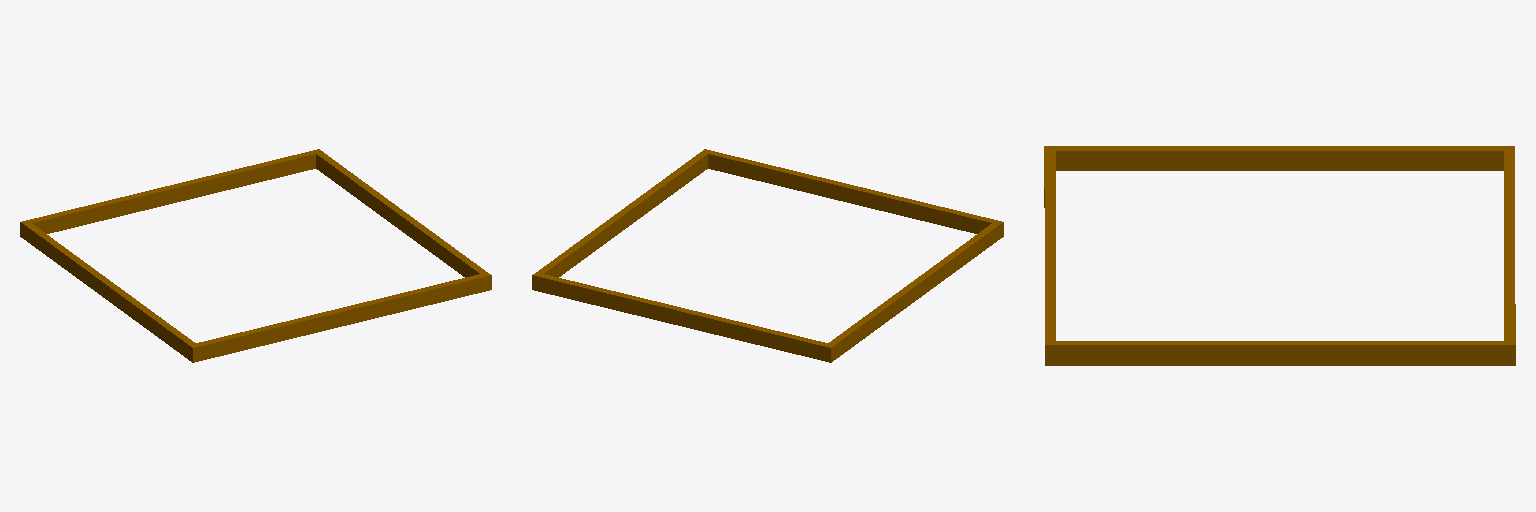
URDF robot description (walls):
<?xml version="1.0"?> 

<!-- Copyright 2023 [author] -->

<!-- Licensed under the Apache License, Version 2.0 (the "License"); -->
<!-- you may not use this file except in compliance with the License. -->
<!-- You may obtain a copy of the License at -->

<!--     http://www.apache.org/licenses/LICENSE-2.0 -->

<!-- Unless required by applicable law or agreed to in writing, software -->
<!-- distributed under the License is distributed on an "AS IS" BASIS, -->
<!-- WITHOUT WARRANTIES OR CONDITIONS OF ANY KIND, either express or implied. -->
<!-- See the License for the specific language governing permissions and -->
<!-- limitations under the License. -->

<!-- Authors: [author], [author] -->

<robot name="walls">
    <link name="north">
        <visual>
            <origin xyz="0 10.25 0" rpy="0 0 1.571" />
            <geometry>
                <mesh filename='meshes/v0_NS_wall.stl' />
            </geometry>
            <material name="brown">
                <color rgba="0.6 0.4 0.0 1"/>
            </material>
        </visual>
        <collision>
            <origin xyz="0 10.25 0" rpy="0 0 1.571" />
            <geometry>
                <mesh filename='meshes/v0_NS_wall.stl' />
            </geometry>
        </collision>
        <inertial>
            <mass value="10"/>
            <inertia ixx="0.4" ixy="0.0" ixz="0.0" iyy="0.4" iyz="0.0" izz="0.2" />
        </inertial>
    </link>

    <link name="east">
        <visual>
            <origin xyz="0 -10.25 0" rpy="0 0 0" />
            <geometry>
                <mesh filename='meshes/v0_EW_wall.stl' />
            </geometry>
            <material name="brown">
                <color rgba="0.6 0.4 0.0 1"/>
            </material>
        </visual>
        <collision>
            <origin xyz="0 -10.25 0" rpy="0 0 0" />
            <geometry>
                <mesh filename='meshes/v0_EW_wall.stl' />
            </geometry>
        </collision>
        <inertial>
            <mass value="8"/>
            <inertia ixx="0.4" ixy="0.0" ixz="0.0" iyy="0.4" iyz="0.0" izz="0.2" />
        </inertial>
    </link>

    <joint name="joint1" type="fixed">
        <parent link="north"/>
        <child link="east"/>
        <origin xyz="10.25 10.25 0" rpy="0 0 0" />
    </joint>

    <link name="south">
        <visual>
            <origin xyz="-10.25 -10.25 0" rpy="0 0 1.571" />
            <geometry>
                <mesh filename='meshes/v0_NS_wall.stl' />
            </geometry>
            <material name="brown">
                <color rgba="0.6 0.4 0.0 1"/>
            </material>
        </visual>
        <collision>
            <origin xyz="-10.25 -10.25 0" rpy="0 0 1.571" />
            <geometry>
                <mesh filename='meshes/v0_NS_wall.stl' />
            </geometry>
        </collision>
        <inertial>
            <mass value="10"/>
            <inertia ixx="0.4" ixy="0.0" ixz="0.0" iyy="0.4" iyz="0.0" izz="0.2" />
        </inertial>
    </link>

    <joint name="joint2" type="fixed">
        <parent link="east"/>
        <child link="south"/>
        <origin xyz="0 -10.25 0" rpy="0 0 0" />
    </joint>

    <link name="west">
        <visual>
            <origin xyz="0 0 0" rpy="0 0 0" />
            <geometry>
                <mesh filename='meshes/v0_EW_wall.stl' />
            </geometry>
            <material name="brown">
                <color rgba="0.6 0.4 0.0 1"/>
            </material>
        </visual>
        <collision>
            <origin xyz="0 0 0" rpy="0 0 0" />
            <geometry>
                <mesh filename='meshes/v0_EW_wall.stl' />
            </geometry>
        </collision>
        <inertial>
            <mass value="8"/>
            <inertia ixx="0.4" ixy="0.0" ixz="0.0" iyy="0.4" iyz="0.0" izz="0.2" />
        </inertial>
    </link>

    <joint name="joint4" type="fixed">
        <parent link="north"/>
        <child link="west"/>
        <origin xyz="-10.25 0 0" rpy="0 0 0" />
    </joint>

</robot>

--- What the picture shows (computed from the rendered views, not written in the file) ---
The picture shows the robot from 3 angles, left to right: view 1: azimuth 30°, elevation 25°; view 2: azimuth 150°, elevation 25°; view 3: azimuth 270°, elevation 25°; orthographic projection.
Model walls with 4 links and 3 joints (3 fixed), rooted at north, posed every joint at zero.
Visible links, largest first — view 1: south, north, west, east; view 2: north, south, west, east; view 3: east, west, north, south.
Boxes of the visible links, box(x1,y1,x2,y2) form: south: box(189, 272, 491, 362); north: box(20, 149, 322, 239); west: box(25, 223, 194, 359); east: box(316, 152, 485, 277); north: box(532, 272, 834, 362); south: box(702, 149, 1003, 239); west: box(829, 223, 998, 359); east: box(538, 152, 707, 277); east: box(1056, 341, 1503, 365); west: box(1056, 146, 1503, 170); north: box(1504, 146, 1515, 365); south: box(1044, 146, 1055, 365).
Size in the robot's own frame: 21 by 21 by 1 metres.
4 mesh visuals loaded from 2 distinct referenced files (2 binary STL).
